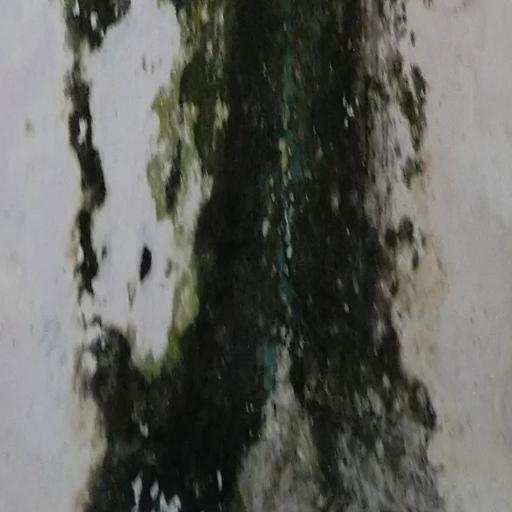algae: (65, 6, 500, 512)
